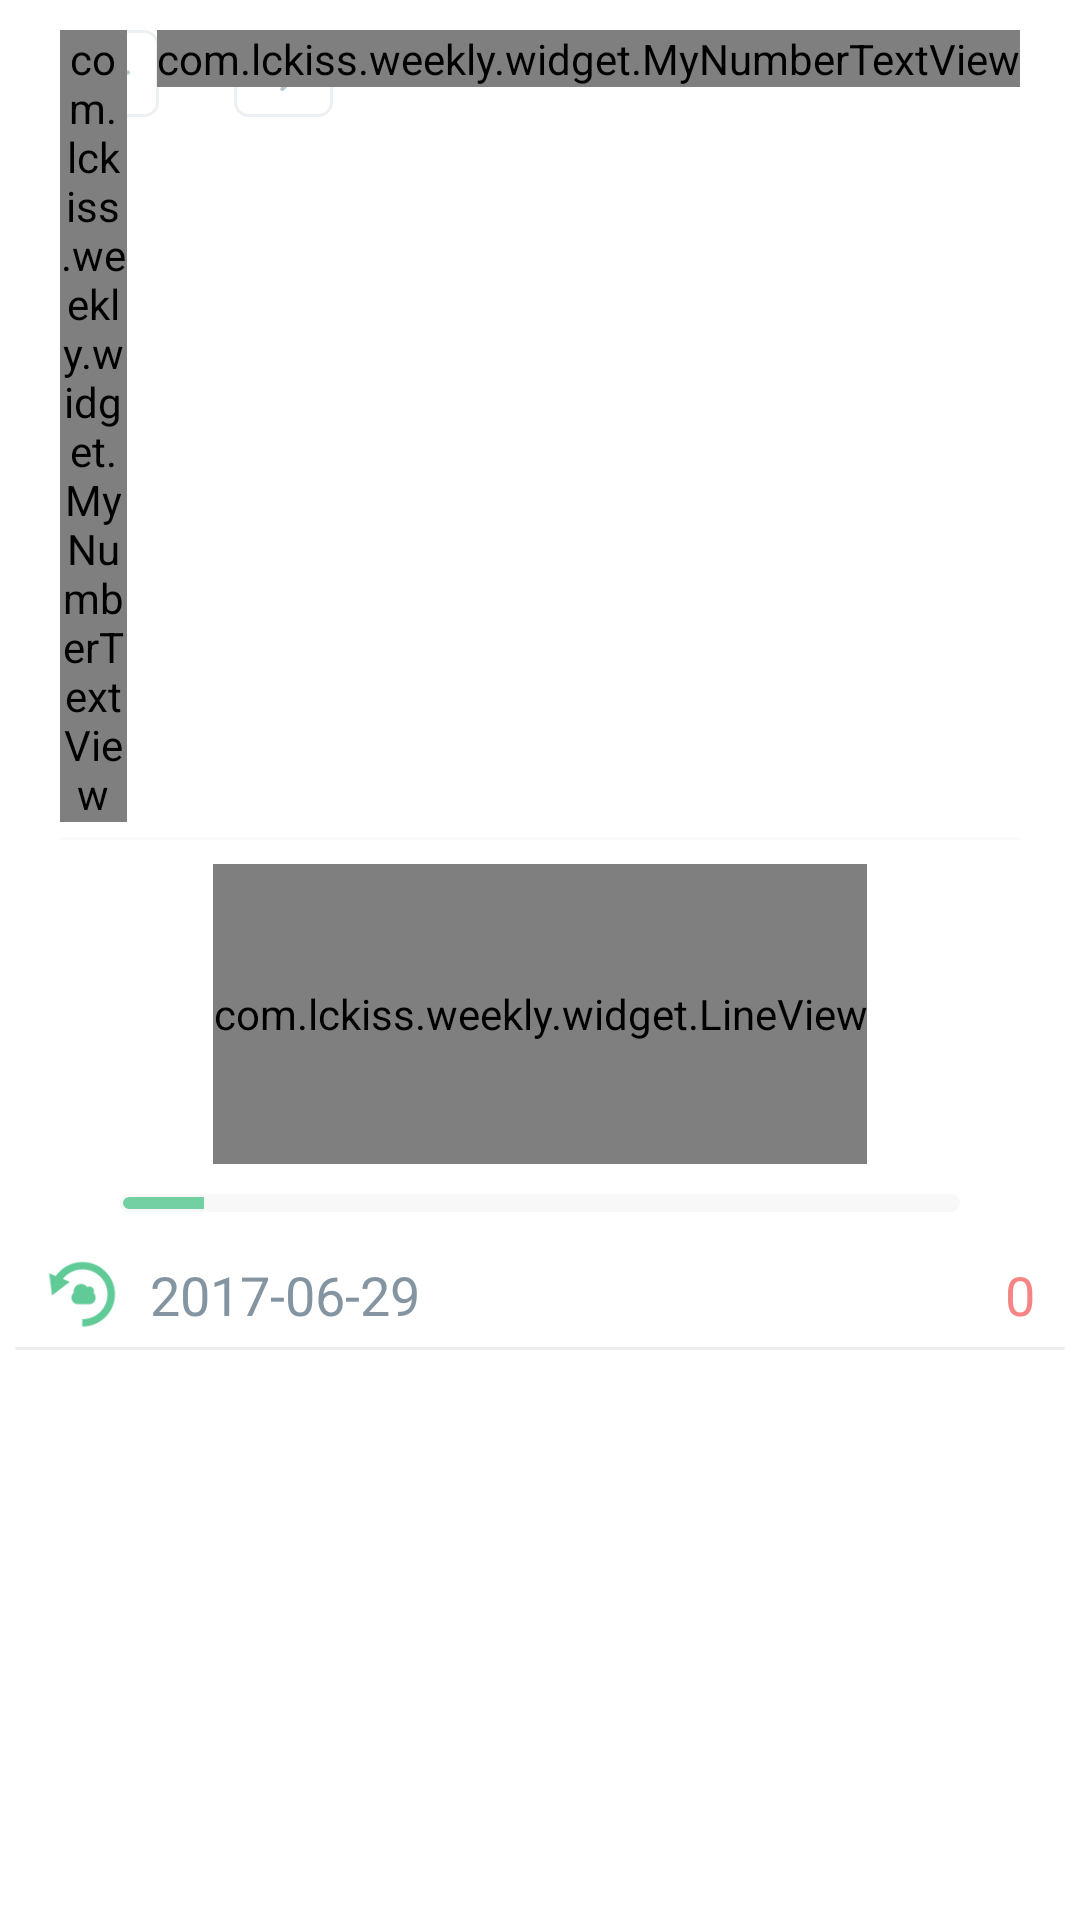

Icons on this 1080x1920 Android screen, each with its box as detection(x1, y1, x2, y2):
sett iko cloud: detection(49, 1261, 116, 1327)
